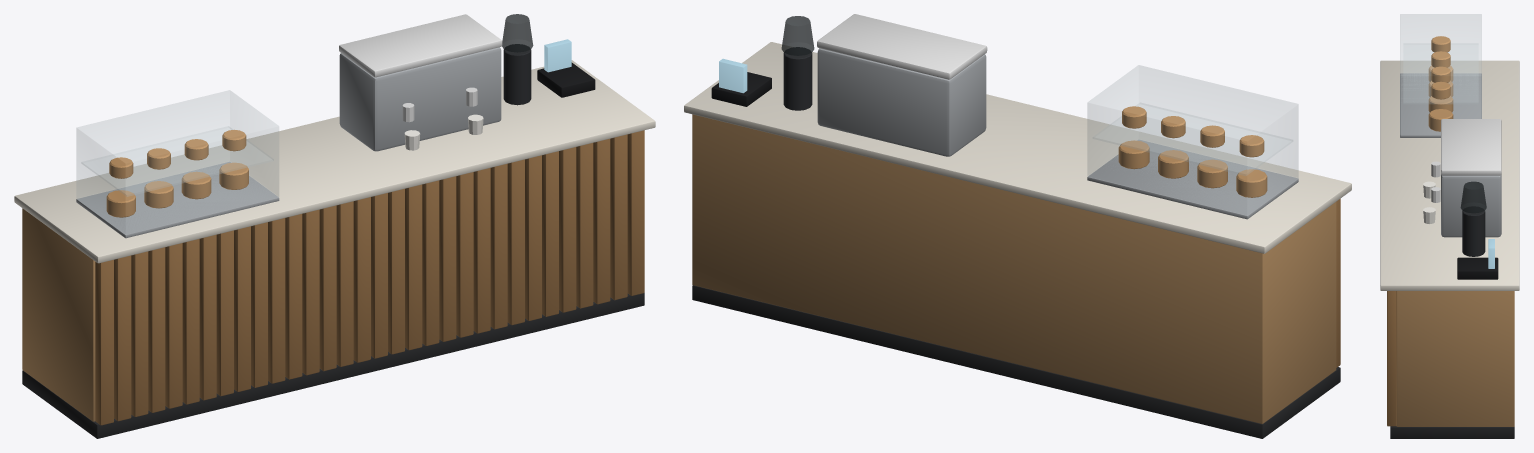
File: vantage_cafe_counter.glb
The picture shows the model from 3 angles, left to right: view 1: azimuth 30°, elevation 25°; view 2: azimuth 150°, elevation 25°; view 3: azimuth 270°, elevation 25°; orthographic projection. The views are drawn at different scales.
Parts seen in each view (by area): view 1: vantage_cafe_counter; view 2: vantage_cafe_counter; view 3: vantage_cafe_counter.
Boxes of the visible parts, x1,y1,x2,y2 form: vantage_cafe_counter: (14, 14, 655, 438); vantage_cafe_counter: (684, 14, 1351, 438); vantage_cafe_counter: (1380, 14, 1519, 438).
Size of the model in its own units: 3.26 by 1.51 by 0.85.
